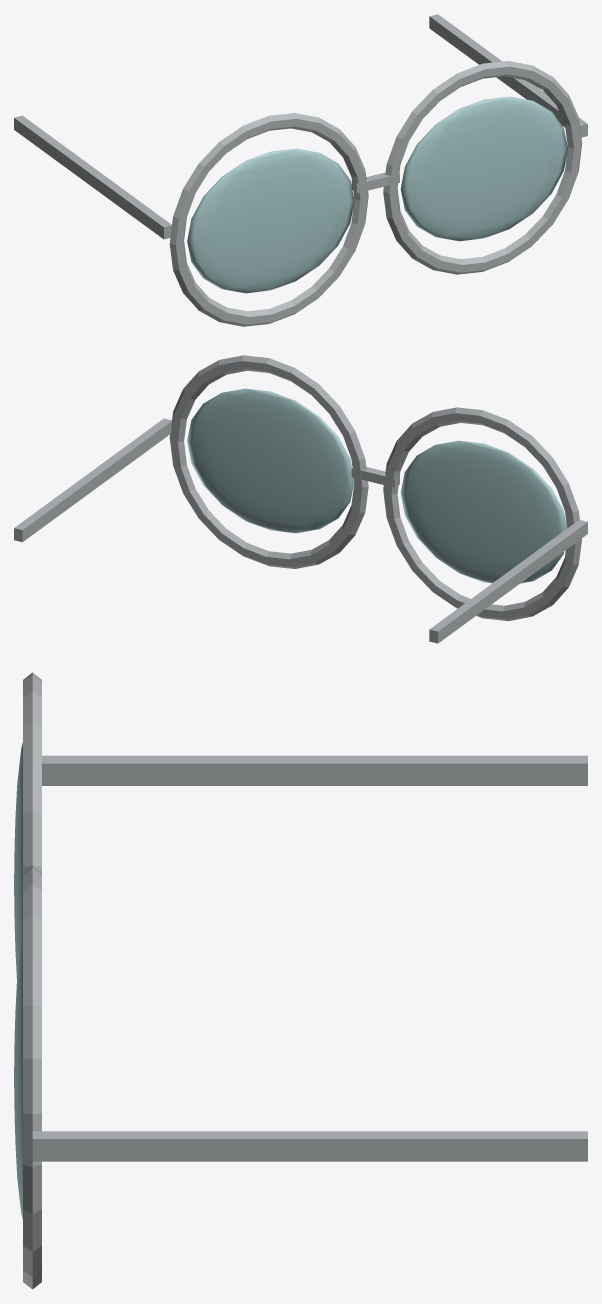
The model's file is glasses-closeup.glb.
3 renders of one model, top to bottom at view 1: azimuth 30°, elevation 25°; view 2: azimuth 150°, elevation 25°; view 3: azimuth 270°, elevation 25°, orthographic. The views are drawn at different scales.
Visible parts, largest first — view 1: Lens, Lens.001, Frame, Frame.001, Temple, Temple.001, Cube; view 2: Lens.001, Lens, Frame.001, Frame, Temple, Temple.001, Cube; view 3: Temple.001, Temple, Frame.001, Frame, Lens.001, Lens.
Part boxes in pixels (x1=…): Lens: x1=187, y1=148, x2=354, y2=293; Lens.001: x1=400, y1=96, x2=567, y2=241; Frame: x1=169, y1=113, x2=368, y2=326; Frame.001: x1=383, y1=61, x2=582, y2=274; Temple: x1=14, y1=115, x2=171, y2=239; Temple.001: x1=429, y1=14, x2=587, y2=137; Cube: x1=351, y1=172, x2=399, y2=193; Lens.001: x1=187, y1=388, x2=354, y2=533; Lens: x1=400, y1=440, x2=566, y2=583; Frame.001: x1=169, y1=355, x2=368, y2=568; Frame: x1=383, y1=407, x2=582, y2=621; Temple: x1=429, y1=520, x2=587, y2=643; Temple.001: x1=14, y1=418, x2=171, y2=542; Cube: x1=351, y1=467, x2=399, y2=487; Temple.001: x1=32, y1=1131, x2=587, y2=1161; Temple: x1=42, y1=755, x2=587, y2=785; Frame.001: x1=23, y1=865, x2=41, y2=1289; Frame: x1=23, y1=672, x2=41, y2=872; Lens.001: x1=14, y1=935, x2=22, y2=1219; Lens: x1=14, y1=742, x2=22, y2=977.
Size of the model in its own units: 0.147 by 0.069 by 0.093.
